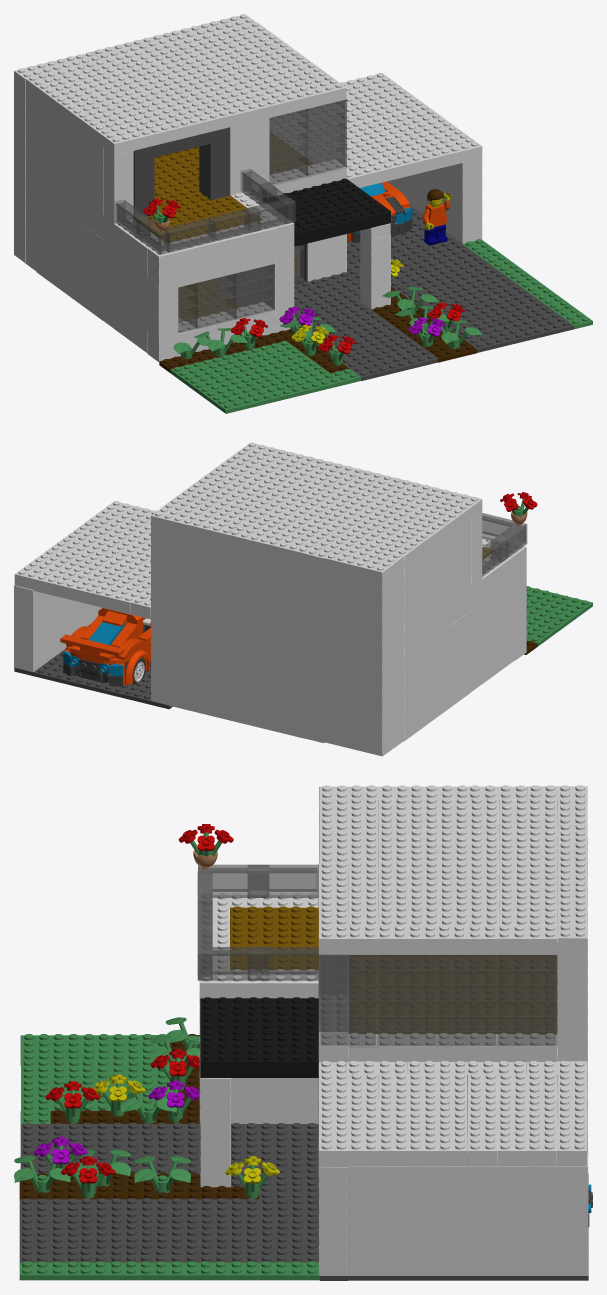
File: LEGO HOUSE COMP.glb
3 renders of one model, top to bottom at view 1: azimuth 30°, elevation 25°; view 2: azimuth 150°, elevation 25°; view 3: azimuth 270°, elevation 25°, orthographic. The views are drawn at different scales.
Parts seen in each view (by area): view 1: L2F4_LegoWhite_0, L2x119_Dark_grey_0, L2x187_Black_tinted_glass_0, L2x111_LegoGreen_0, L2x4F32_Wood_ish_thing_0, L2x281_phong3_0, L2x110_Brown1_0, L2x2Circle3_Red_0, polySurface342_Purplish_pink_0, L2x2Circle4_Yellow_0, Part_18892.10_LegoBlackPhong_0, LegoTri2768_LegoRed_0 (+1 smaller); view 2: L2F4_LegoWhite_0, LegoTri2768_LegoRed_0, L2x111_LegoGreen_0, L2x119_Dark_grey_0, L2x187_Black_tinted_glass_0, L2x4Flat6_LegoRed_0, Part_18892.10_LegoBlackPhong_0, Part_30363.66_LegoGlass_0, Part_54200.26_LegoGlass_0; view 3: L2F4_LegoWhite_0, L2x119_Dark_grey_0, L2x187_Black_tinted_glass_0, L2x4F32_Wood_ish_thing_0, L2x111_LegoGreen_0, L2x281_phong3_0, L2x110_Brown1_0, L2x2Circle3_Red_0, polySurface342_Purplish_pink_0, L2x2Circle4_Yellow_0.
Boxes of the visible parts, x1=… form: L2F4_LegoWhite_0: x1=14, y1=14, x2=482, y2=361; L2x119_Dark_grey_0: x1=133, y1=127, x2=573, y2=381; L2x187_Black_tinted_glass_0: x1=115, y1=99, x2=346, y2=333; L2x111_LegoGreen_0: x1=152, y1=205, x2=592, y2=413; L2x4F32_Wood_ish_thing_0: x1=135, y1=132, x2=313, y2=320; L2x281_phong3_0: x1=264, y1=178, x2=390, y2=246; L2x110_Brown1_0: x1=159, y1=189, x2=476, y2=373; L2x2Circle3_Red_0: x1=143, y1=198, x2=465, y2=354; polySurface342_Purplish_pink_0: x1=279, y1=306, x2=445, y2=336; L2x2Circle4_Yellow_0: x1=291, y1=198, x2=442, y2=344; Part_18892.10_LegoBlackPhong_0: x1=352, y1=196, x2=412, y2=242; LegoTri2768_LegoRed_0: x1=347, y1=181, x2=429, y2=241; L2F4_LegoWhite_0: x1=14, y1=442, x2=526, y2=756; LegoTri2768_LegoRed_0: x1=60, y1=608, x2=150, y2=685; L2x111_LegoGreen_0: x1=512, y1=499, x2=592, y2=646; L2x119_Dark_grey_0: x1=14, y1=649, x2=172, y2=709; L2x187_Black_tinted_glass_0: x1=482, y1=513, x2=527, y2=576; L2x4Flat6_LegoRed_0: x1=81, y1=611, x2=150, y2=658; Part_18892.10_LegoBlackPhong_0: x1=63, y1=623, x2=150, y2=686; Part_30363.66_LegoGlass_0: x1=89, y1=622, x2=127, y2=645; Part_54200.26_LegoGlass_0: x1=63, y1=651, x2=122, y2=676; L2F4_LegoWhite_0: x1=199, y1=785, x2=588, y2=1275; L2x119_Dark_grey_0: x1=19, y1=1123, x2=588, y2=1280; L2x187_Black_tinted_glass_0: x1=197, y1=864, x2=557, y2=1046; L2x4F32_Wood_ish_thing_0: x1=230, y1=906, x2=556, y2=1034; L2x111_LegoGreen_0: x1=14, y1=832, x2=319, y2=1280; L2x281_phong3_0: x1=200, y1=997, x2=318, y2=1077; L2x110_Brown1_0: x1=19, y1=1034, x2=258, y2=1199; L2x2Circle3_Red_0: x1=45, y1=824, x2=233, y2=1183; polySurface342_Purplish_pink_0: x1=33, y1=1080, x2=199, y2=1164; L2x2Circle4_Yellow_0: x1=92, y1=1074, x2=279, y2=1183.
Bounding box in the file's own units: 14.32 × 6.9 × 14.11.
